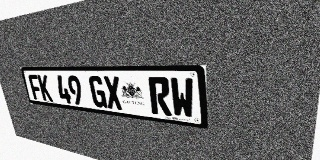4: (55, 75, 72, 104)
9: (66, 75, 84, 105)
F: (28, 74, 43, 100)
G: (88, 76, 107, 108)
K: (37, 75, 53, 102)
R: (148, 77, 172, 116)
W: (169, 77, 195, 119)
X: (103, 76, 123, 110)
